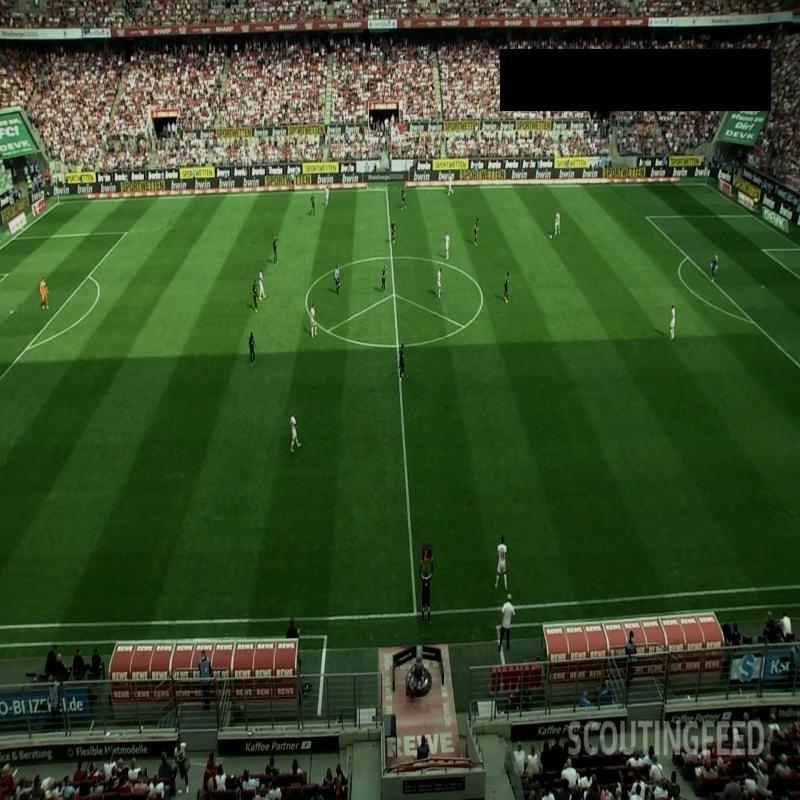1: (51, 196, 66, 210), (697, 179, 713, 190)
10: (82, 268, 96, 282), (682, 250, 694, 266)
11: (743, 314, 762, 328), (20, 342, 34, 356)
13: (380, 180, 394, 194)
14: (385, 249, 399, 262)
15: (390, 338, 404, 352)
16: (405, 602, 426, 624)
2: (5, 232, 20, 246), (745, 210, 758, 222)
3: (790, 240, 800, 253)
7: (755, 242, 770, 258), (0, 268, 14, 282)
9: (120, 225, 134, 239), (639, 211, 653, 224)
c: (300, 293, 314, 307), (476, 288, 489, 300)
